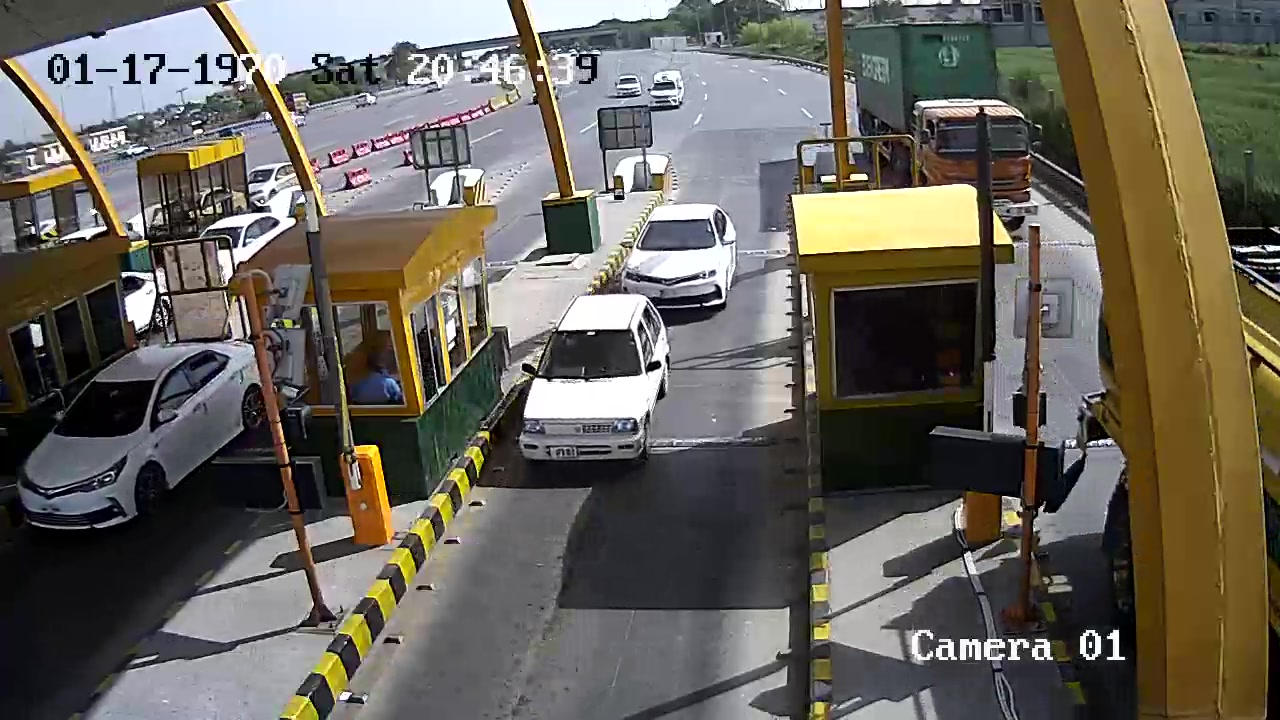F1: (517, 286, 672, 473)
